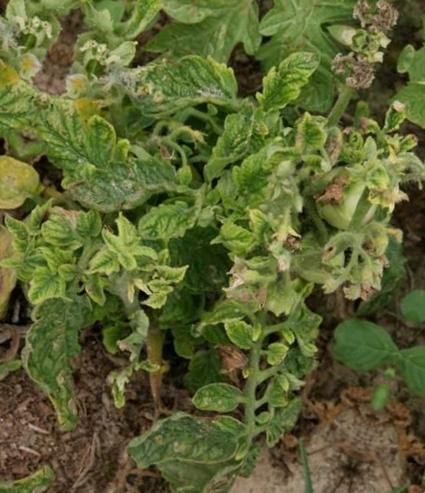Tomato leaf yellow virus: (17, 93, 147, 205), (128, 39, 249, 153), (0, 313, 98, 427), (212, 137, 294, 227), (254, 43, 320, 129), (131, 186, 207, 258), (180, 368, 255, 436), (16, 256, 80, 322), (207, 223, 268, 270), (214, 314, 267, 358), (87, 243, 123, 284), (262, 334, 300, 372)
